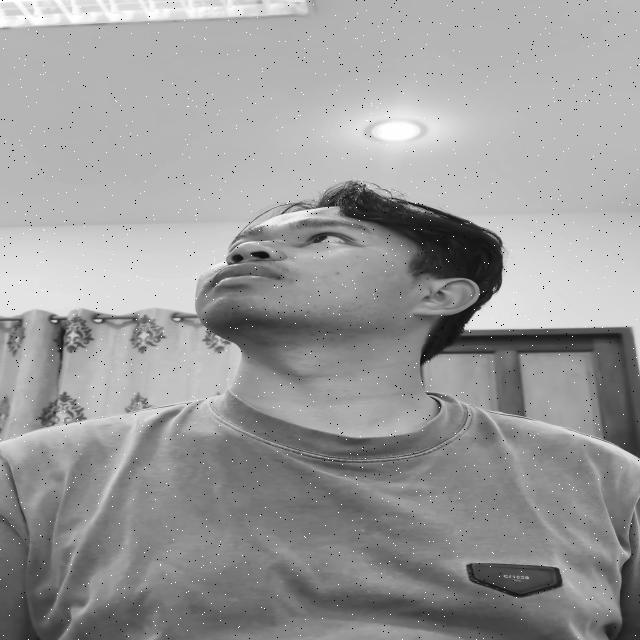ear: (413, 278, 479, 316)
